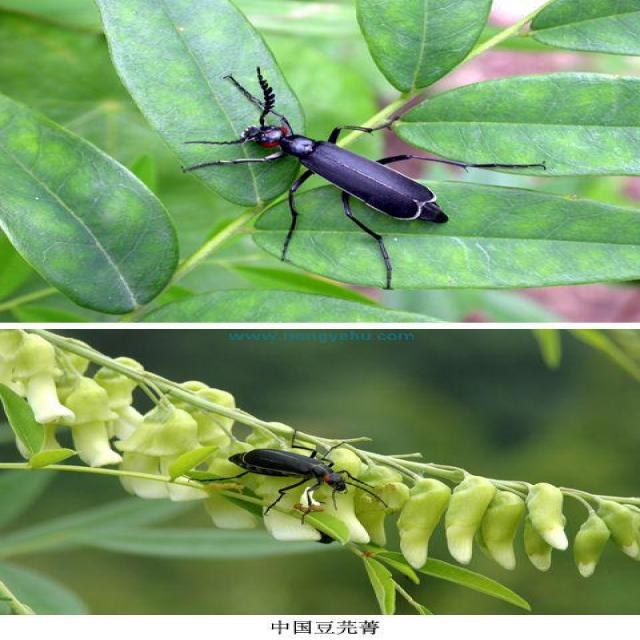BlisterBeetle-Adult-: (192, 66, 554, 256), (176, 426, 397, 522)
